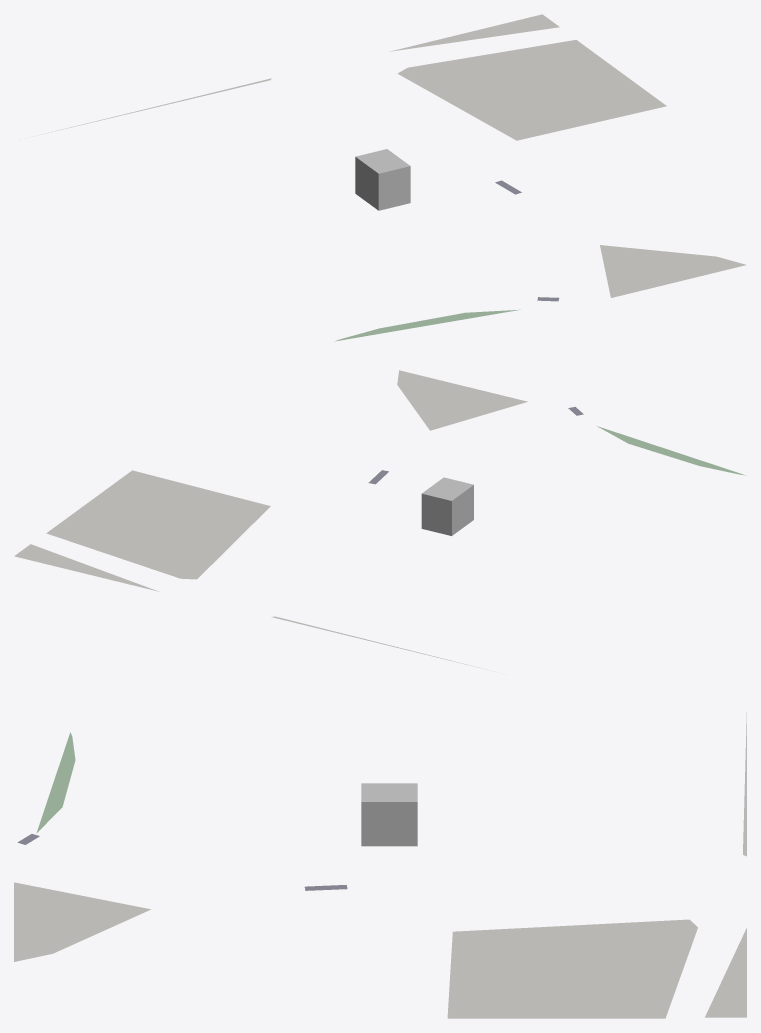
Rendered from 137_112_mid.glb.
3 renders of one model, top to bottom at view 1: azimuth 30°, elevation 25°; view 2: azimuth 150°, elevation 25°; view 3: azimuth 270°, elevation 25°, orthographic. The views are drawn at different scales.
Size of the model in its own units: 500 by 36 by 500.
